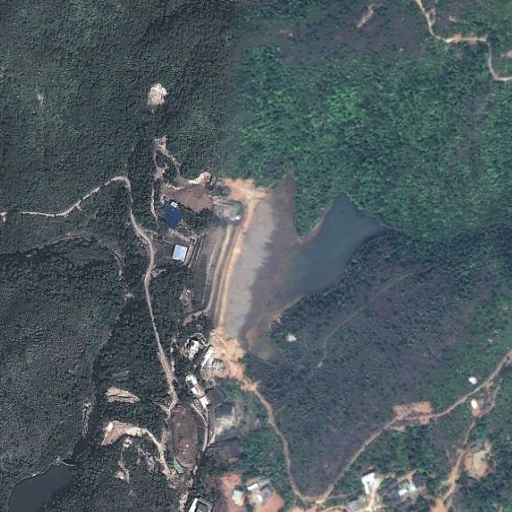tp: (192, 170, 386, 361)
